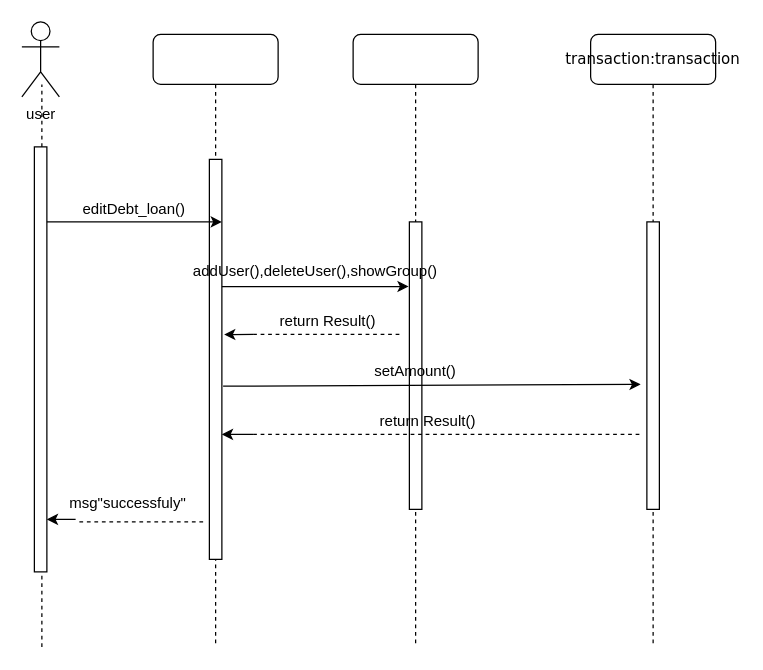
Some shapes in this 763 by 670 pixel diagram are drawn without their labels. The shapes that lost their labels are listed below. From the top down, each one's box as (x1, y1, x2, y2) in pixels, then its label:
(152, 33, 278, 647): hesabyar system
(352, 33, 478, 647): group:Group
